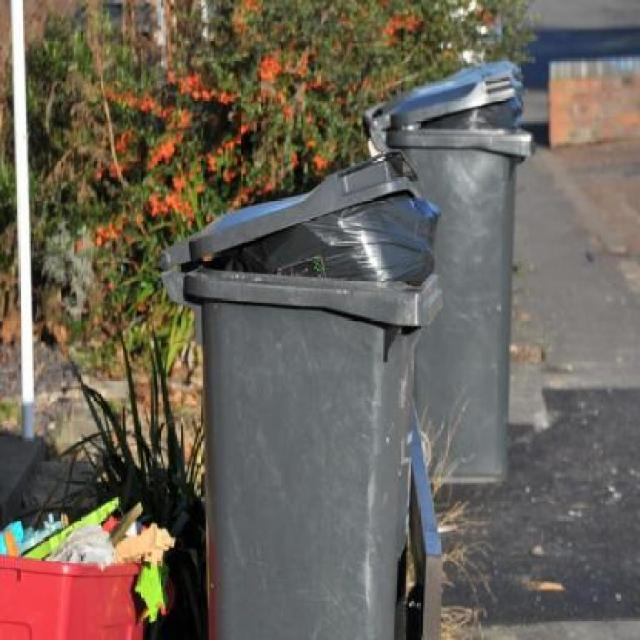garbage: (20, 470, 177, 639), (259, 208, 426, 289)
